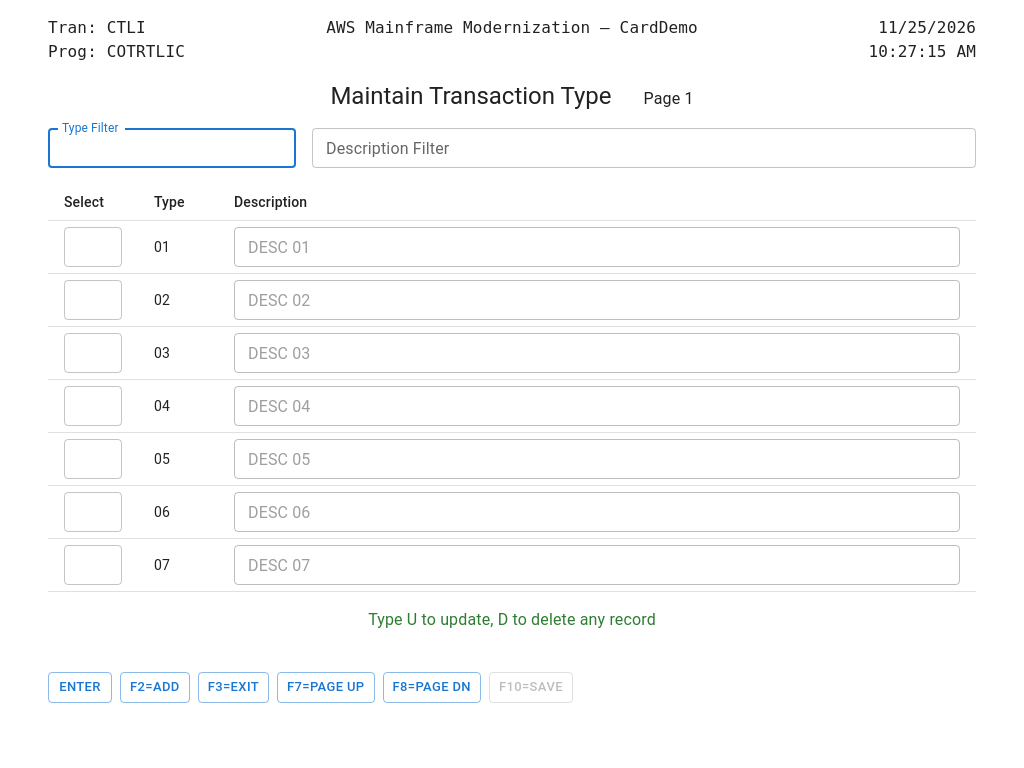
Test case: TransactionTypeListPage (CTLI) › enforces single valid action code
Expected: the row with test id "row-01" is shown, [48,220,976,274]
In the field named "action 01": (93, 247) [64,227,122,267], type "X"
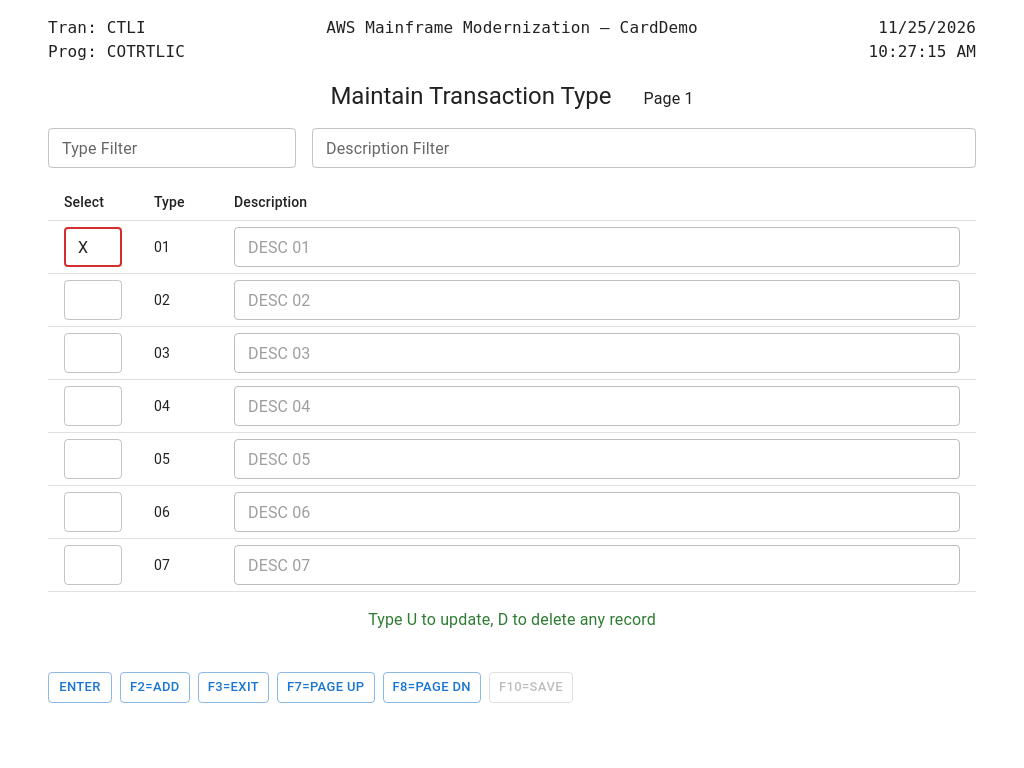
Click the button "ENTER": (80, 687) [48,672,112,703]
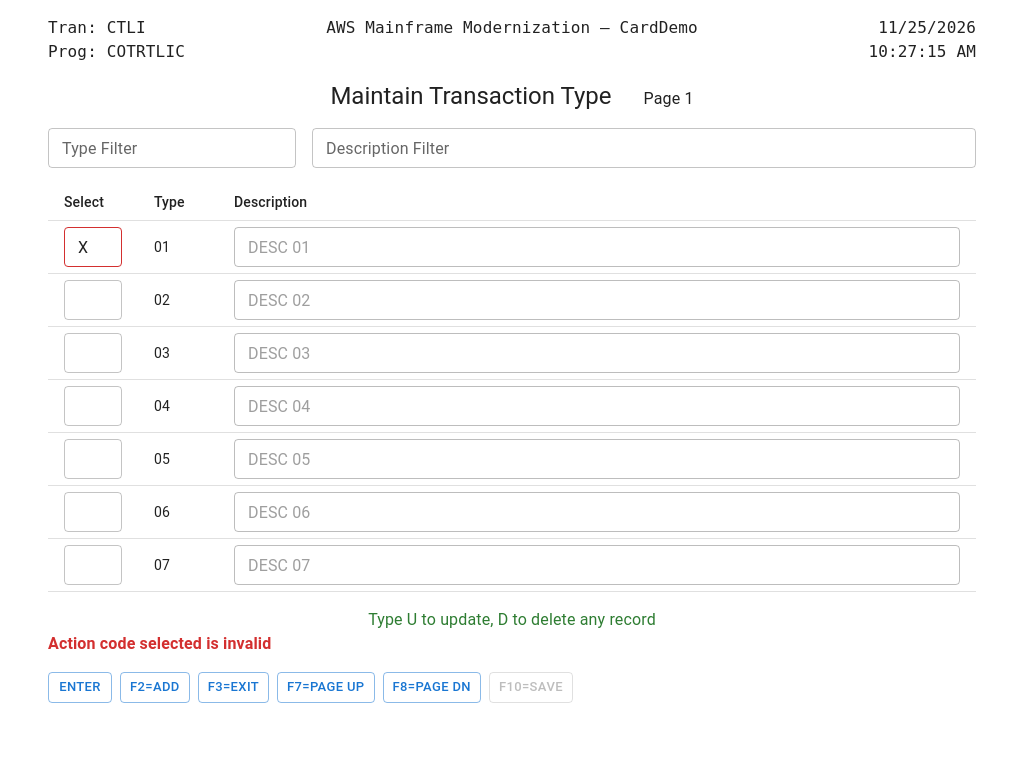
Expected: the message reads "Action code selected is invalid", [48,634,271,653]
Replace the text in the field named "action 01" with "U": (93, 247) [64,227,122,267]
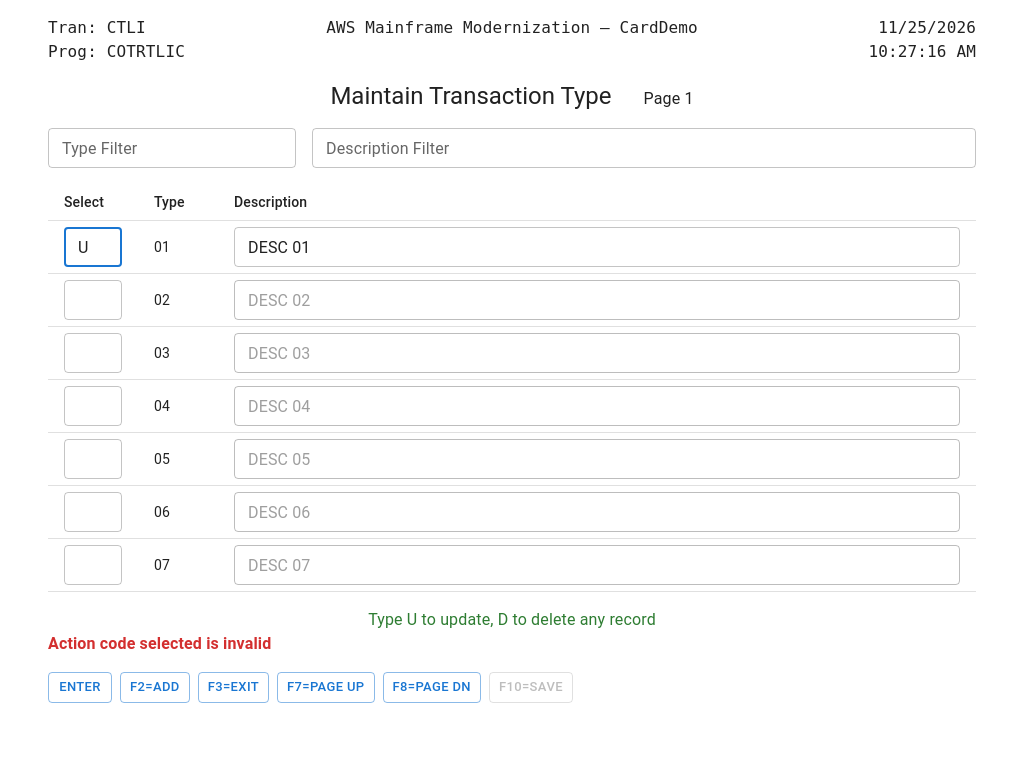
In the field named "action 02": (93, 300) [64,280,122,320], type "D"
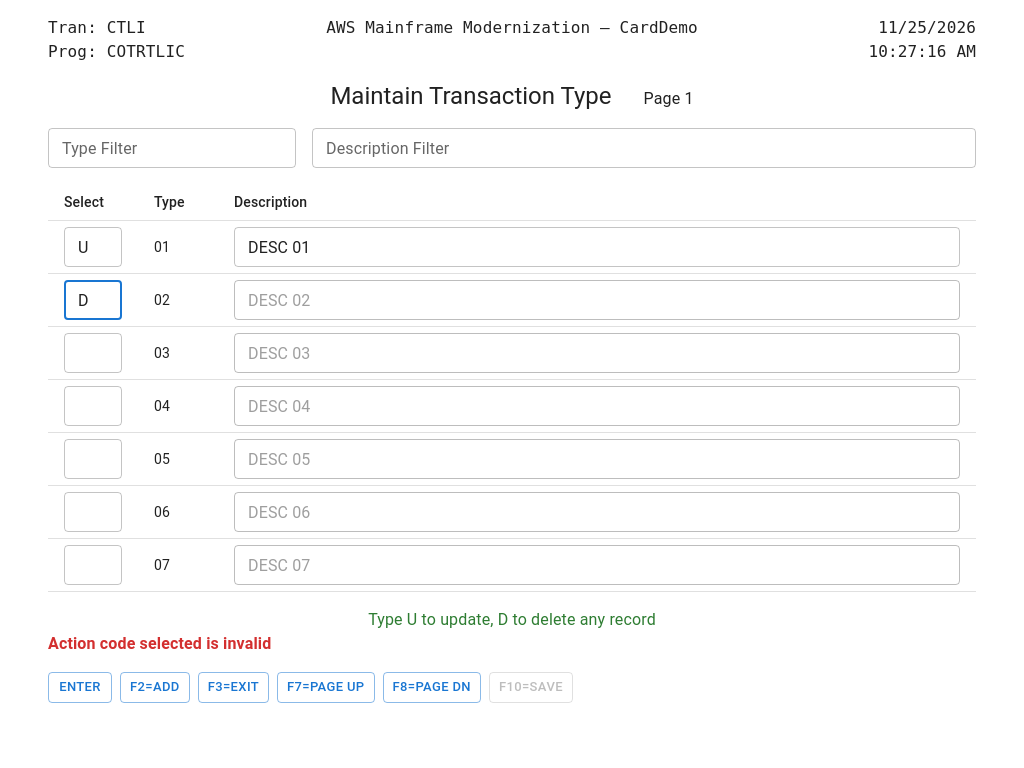
Click the button "ENTER": (80, 687) [48,672,112,703]
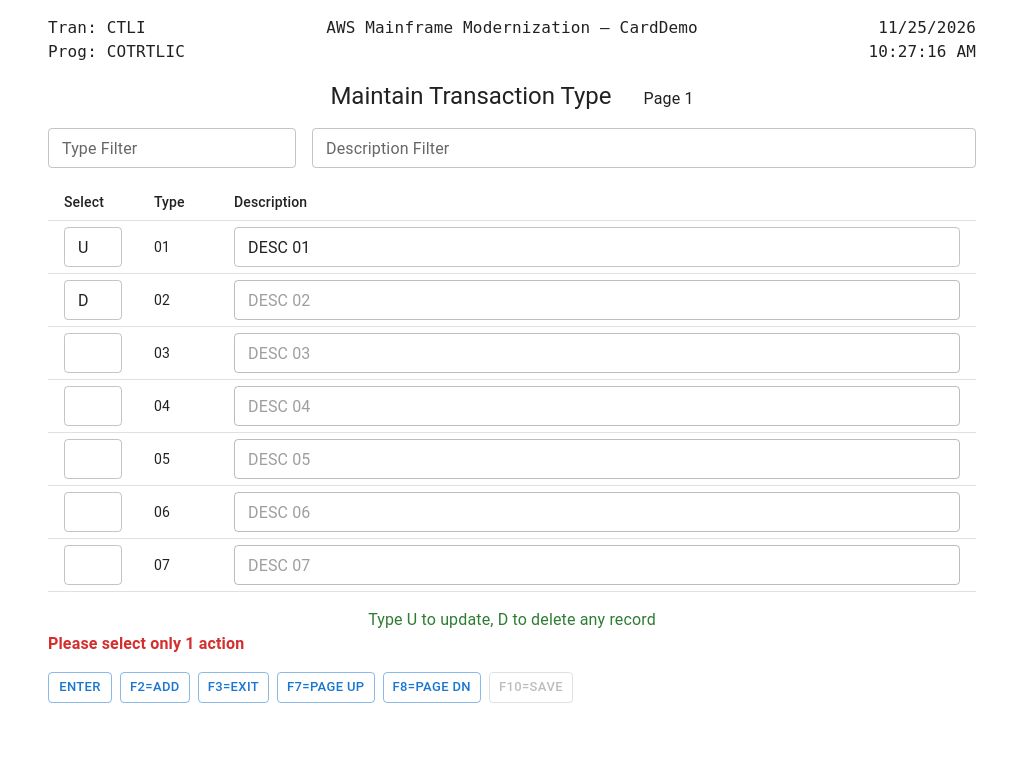
Expected: the message reads "Please select only 1 action", [48,634,244,653]
